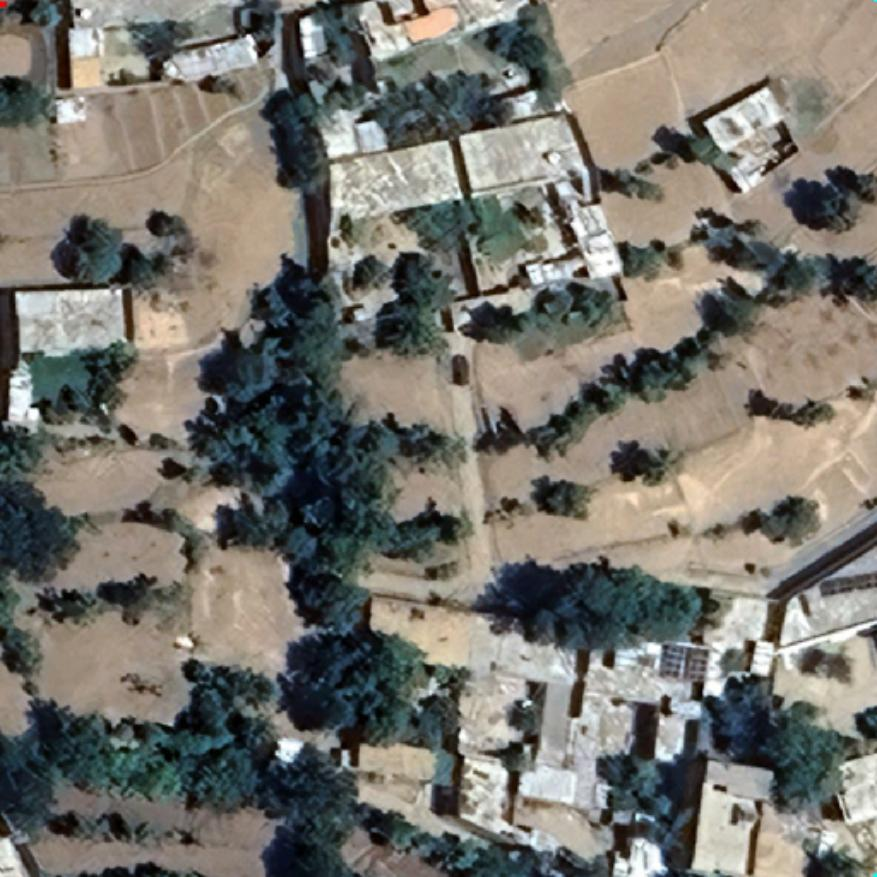Solarpanel: (661, 642, 709, 682), (819, 571, 877, 597)
